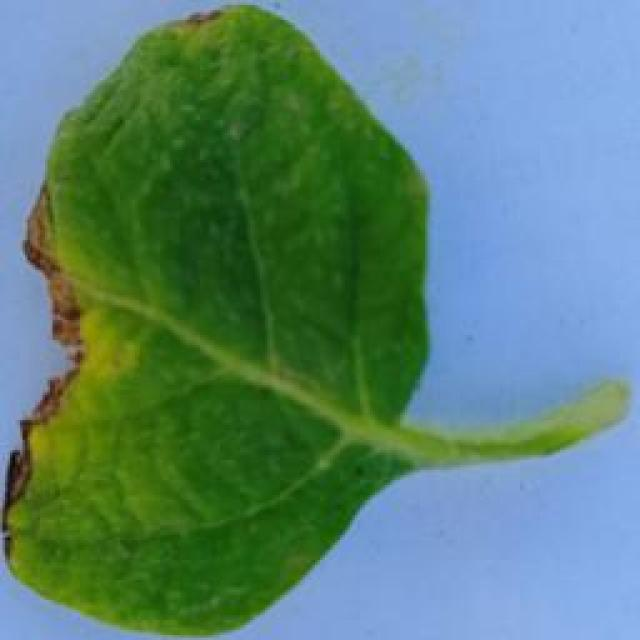Potato_Late_Blight: (18, 4, 426, 630)
